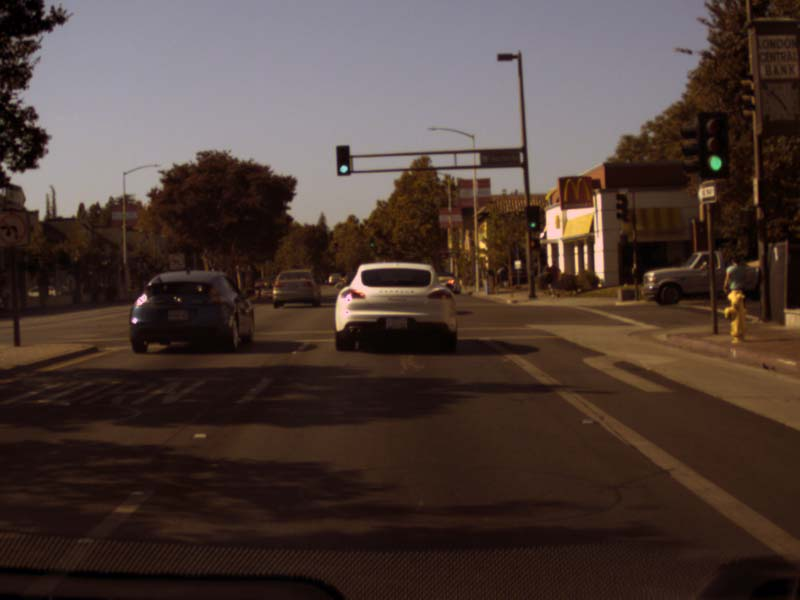Green: (337, 145, 349, 174), (706, 153, 721, 172), (529, 209, 536, 228), (369, 237, 374, 248)
Yellow: (529, 237, 534, 248)
